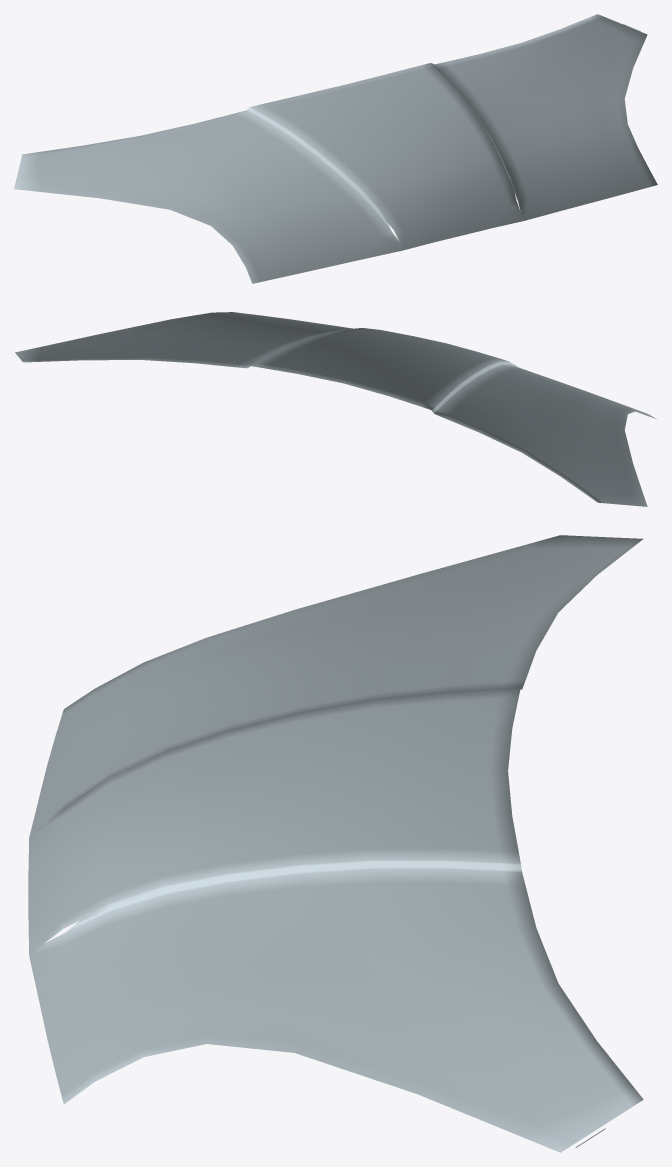
Rendered from AutoB_cofre.obj.
The picture shows the model from 3 angles, top to bottom: view 1: azimuth 30°, elevation 25°; view 2: azimuth 150°, elevation 25°; view 3: azimuth 270°, elevation 25°; orthographic projection. The views are drawn at different scales.
Parts seen in each view (by area): view 1: Cofre; view 2: Cofre; view 3: Cofre.
Part boxes in pixels (x1=…): Cofre: x1=14, y1=14, x2=657, y2=283; Cofre: x1=14, y1=312, x2=656, y2=506; Cofre: x1=28, y1=535, x2=643, y2=1152.
Size of the model in its own units: 8.09 by 0.8306 by 3.41.
